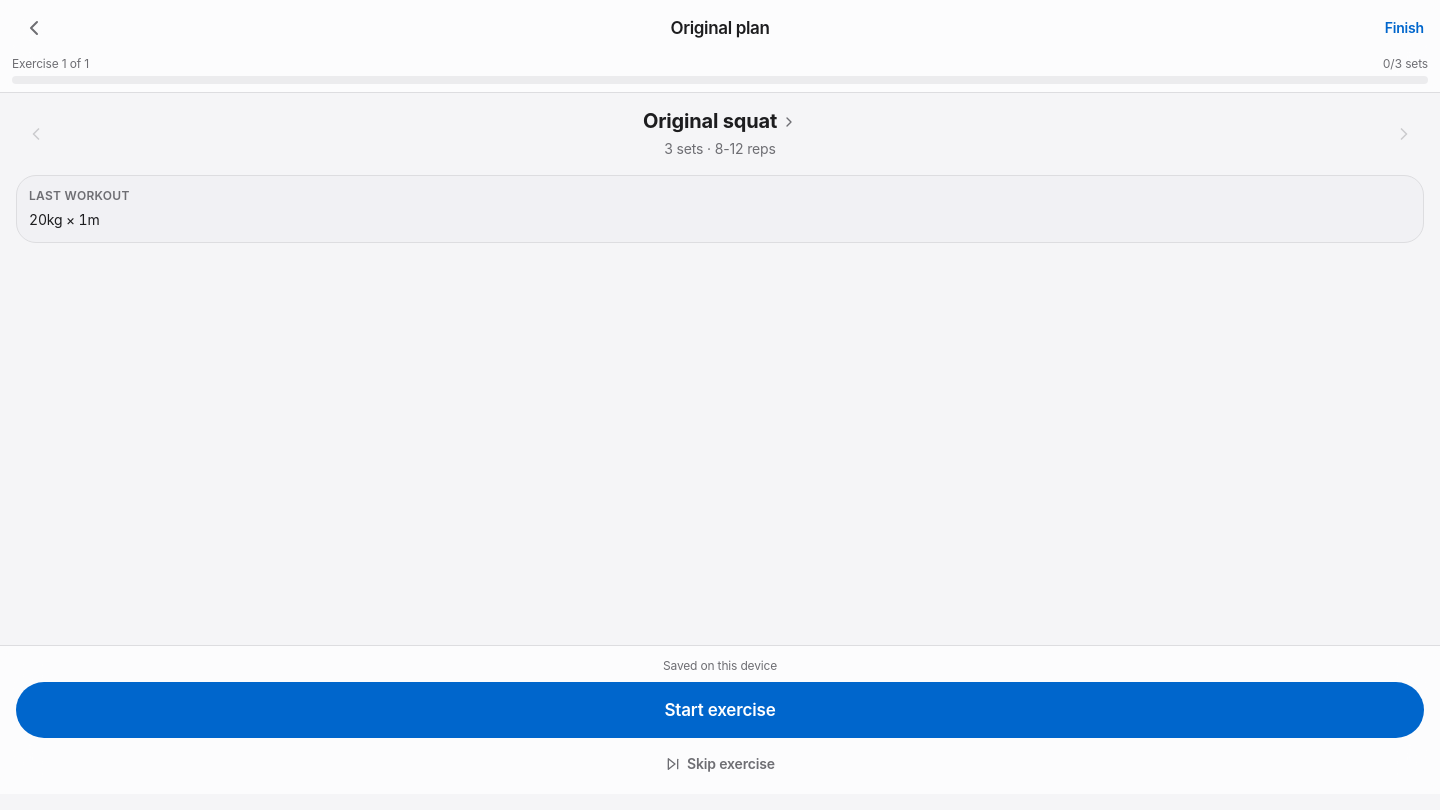
Test: does not prefill timed alias history into a reps assignment
Expected: the text "20kg × 1m" is shown, [29,210,100,230]
Click the button "Start exercise": (720, 710) [16,682,1424,738]
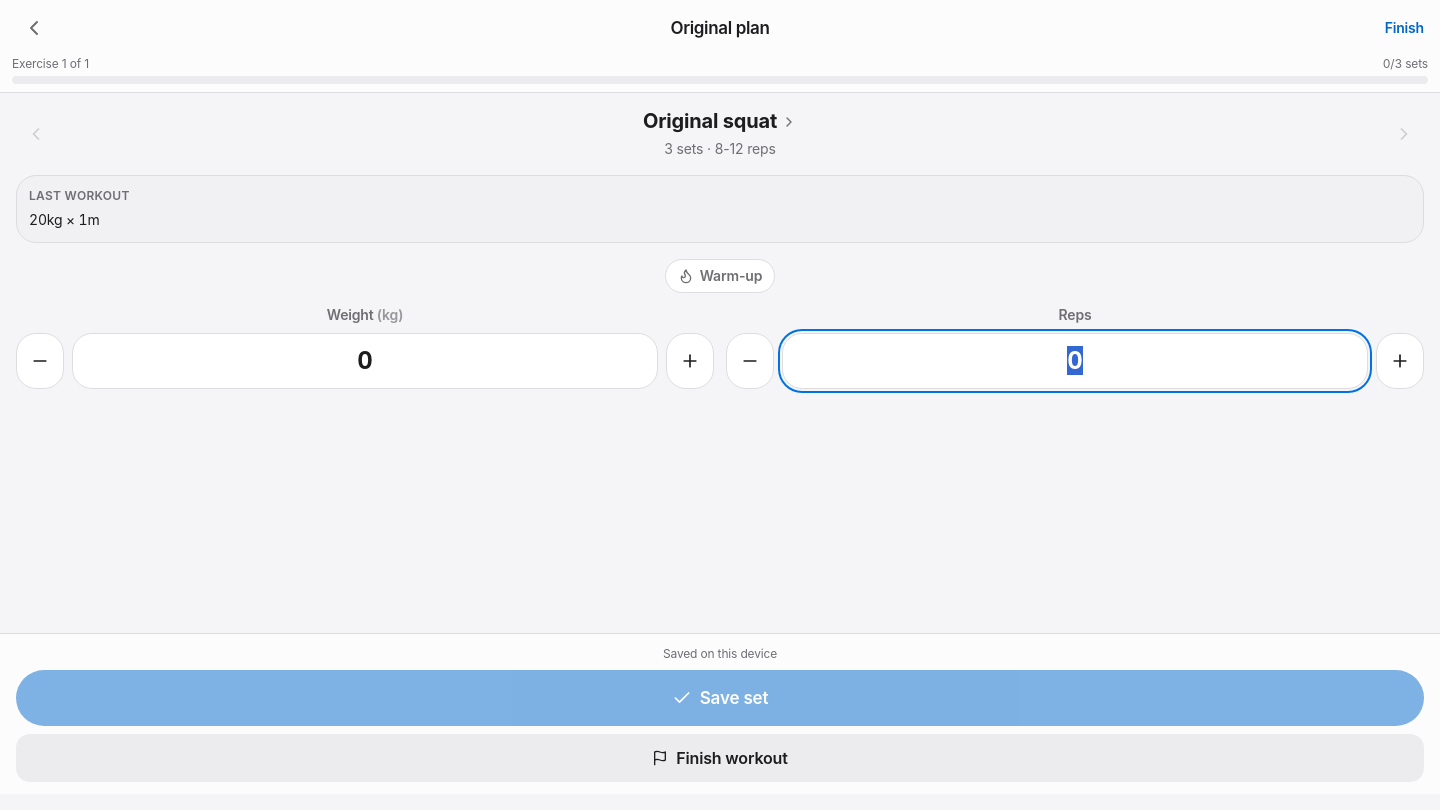
Expected: the field named "Weight" holds "0", [72,333,658,389]
Expected: the field named "Reps" holds "0", [782,333,1368,389]
